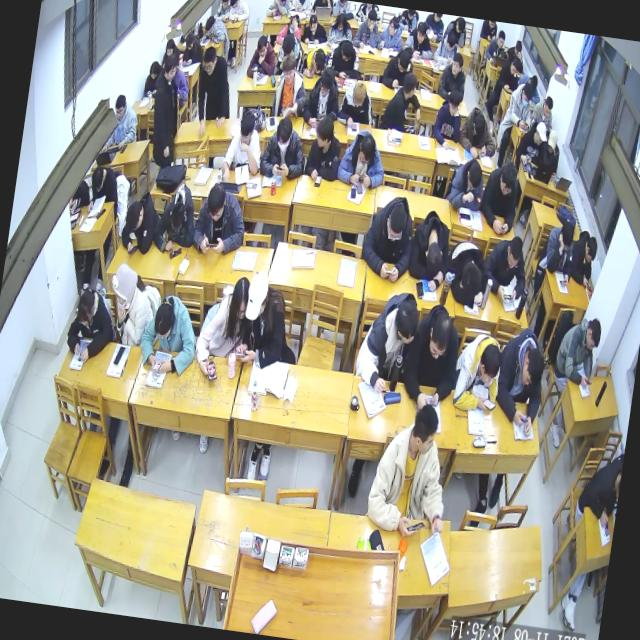bow: (491, 324, 551, 438), (136, 290, 203, 380), (449, 329, 507, 416), (63, 282, 118, 366), (404, 206, 456, 294), (441, 238, 492, 310), (117, 188, 164, 260), (456, 105, 501, 162), (567, 226, 600, 292), (85, 161, 120, 216), (273, 32, 306, 80), (380, 48, 416, 92), (298, 42, 330, 81), (200, 12, 232, 46), (276, 11, 304, 48), (265, 0, 291, 19)
down: (242, 269, 271, 323), (392, 297, 422, 348), (426, 311, 454, 364), (518, 344, 548, 391), (477, 342, 503, 388), (229, 274, 253, 322), (204, 182, 230, 226), (150, 302, 177, 343), (74, 287, 98, 329), (383, 205, 408, 245), (237, 109, 258, 150), (356, 132, 378, 168), (498, 161, 519, 198), (166, 199, 188, 234), (274, 116, 294, 154), (505, 235, 525, 273), (584, 316, 604, 354), (124, 200, 146, 234), (464, 160, 485, 194), (160, 51, 180, 85), (200, 44, 220, 78), (558, 220, 576, 255), (317, 68, 335, 100), (583, 234, 600, 265), (351, 80, 368, 110), (90, 164, 106, 195), (112, 92, 128, 122), (446, 88, 462, 118), (472, 112, 488, 141), (312, 46, 328, 74), (520, 81, 536, 109), (533, 122, 549, 148), (444, 29, 460, 54), (546, 128, 560, 156), (255, 34, 270, 60), (414, 20, 429, 46), (340, 40, 356, 64), (396, 50, 411, 74), (541, 94, 555, 119), (288, 12, 302, 36), (508, 54, 522, 78), (204, 14, 216, 36), (148, 60, 160, 81), (335, 12, 347, 33), (184, 32, 196, 52), (307, 14, 319, 34), (512, 38, 524, 58), (228, 0, 240, 10)
lookup: (279, 53, 299, 87), (449, 52, 465, 78), (496, 29, 506, 50)
sit: (363, 396, 462, 544), (398, 299, 466, 416), (352, 286, 422, 397), (192, 270, 252, 384), (232, 268, 296, 374), (358, 191, 420, 283), (144, 50, 188, 169), (188, 179, 251, 261), (103, 261, 160, 349), (191, 44, 238, 140), (551, 312, 605, 389), (481, 232, 534, 306), (476, 158, 525, 238), (220, 107, 268, 187), (152, 178, 201, 256), (258, 113, 310, 185), (574, 456, 624, 528), (336, 127, 390, 191), (303, 114, 347, 186), (380, 68, 426, 134), (300, 65, 344, 132), (540, 216, 580, 288), (270, 53, 312, 121), (446, 152, 488, 214), (430, 87, 467, 152), (336, 77, 380, 131), (106, 91, 142, 151), (514, 118, 550, 170), (436, 49, 470, 103), (326, 36, 363, 84), (506, 78, 538, 133), (246, 32, 278, 83), (402, 18, 437, 61), (352, 8, 382, 52), (376, 14, 406, 56), (538, 128, 564, 176), (432, 26, 463, 66), (496, 53, 524, 95), (180, 29, 207, 70), (300, 12, 330, 48), (327, 10, 355, 46), (530, 94, 556, 132), (484, 28, 508, 66), (142, 59, 164, 100), (226, 0, 252, 24)
